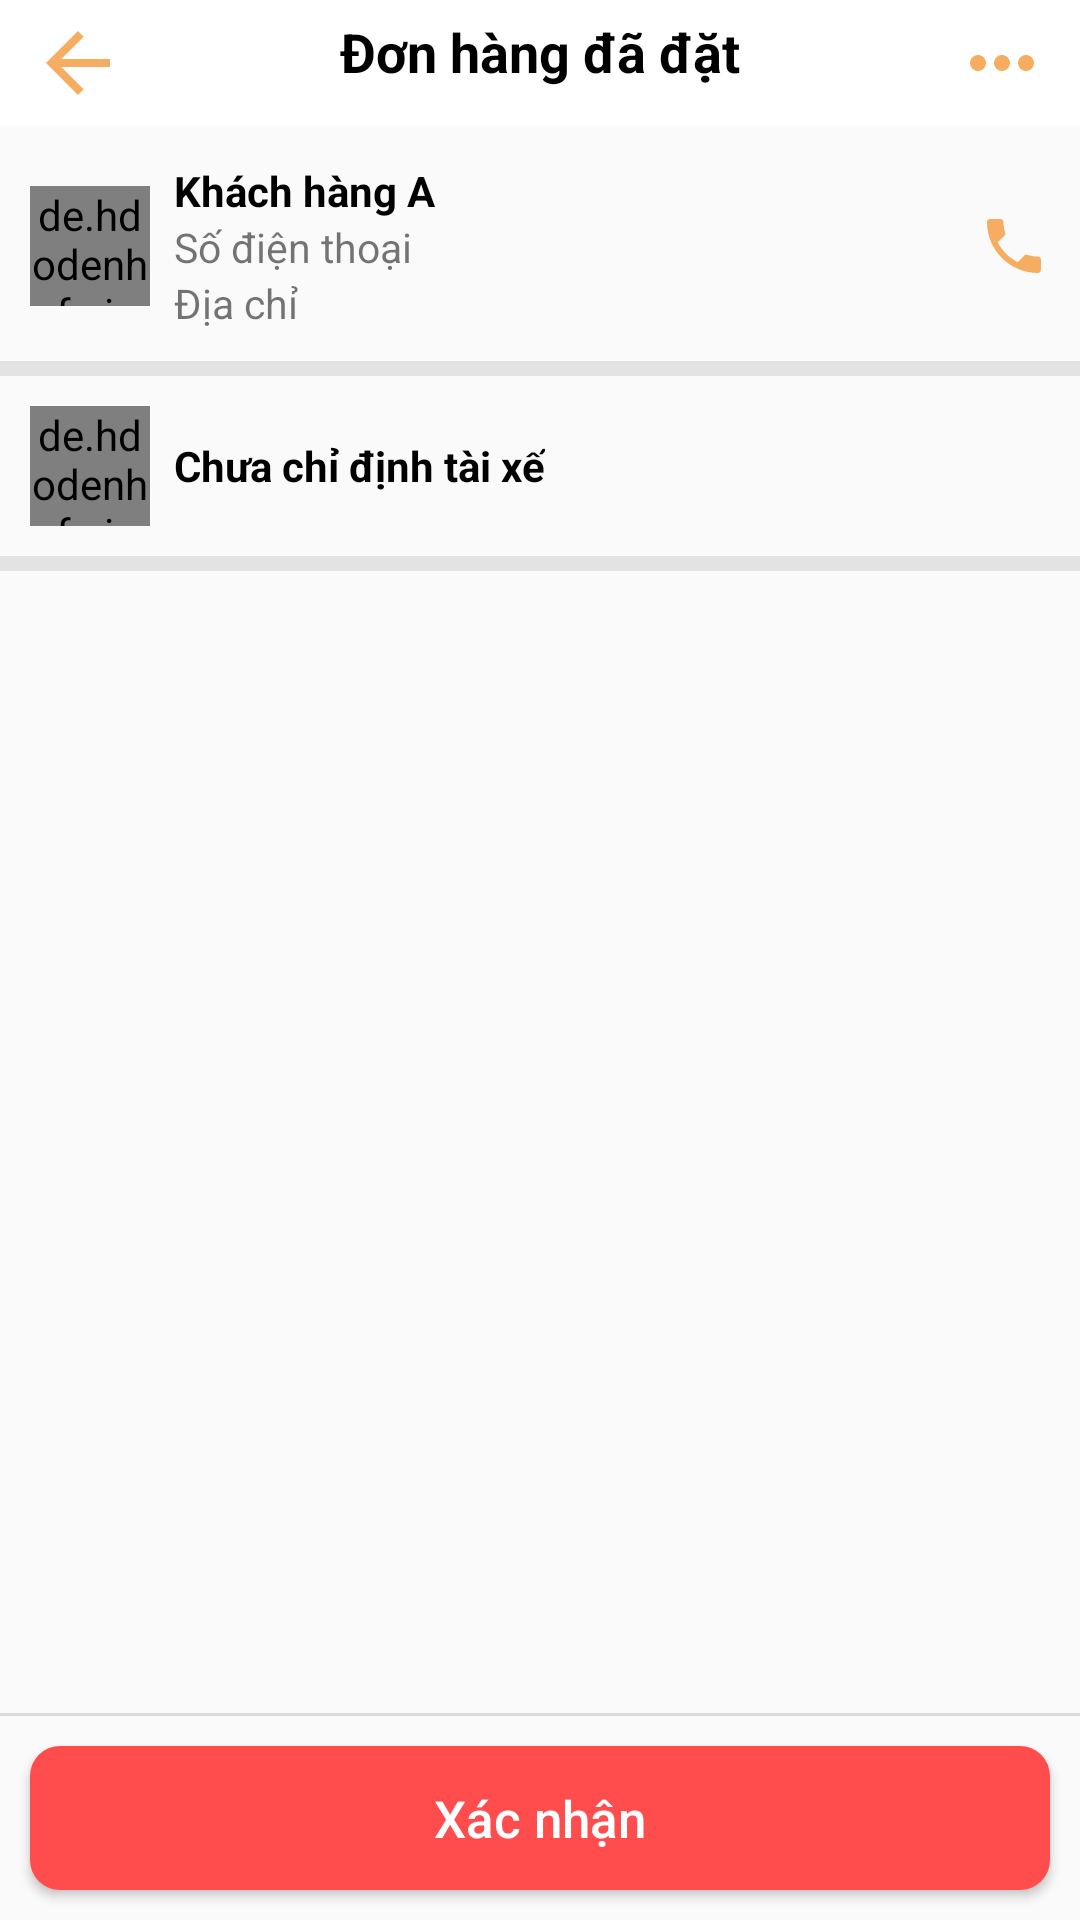

Screen size 1080 x 1920. Icon name, then its center in pixels as (x,y):
arrow back: (78,63)
phone: (1014,246)
